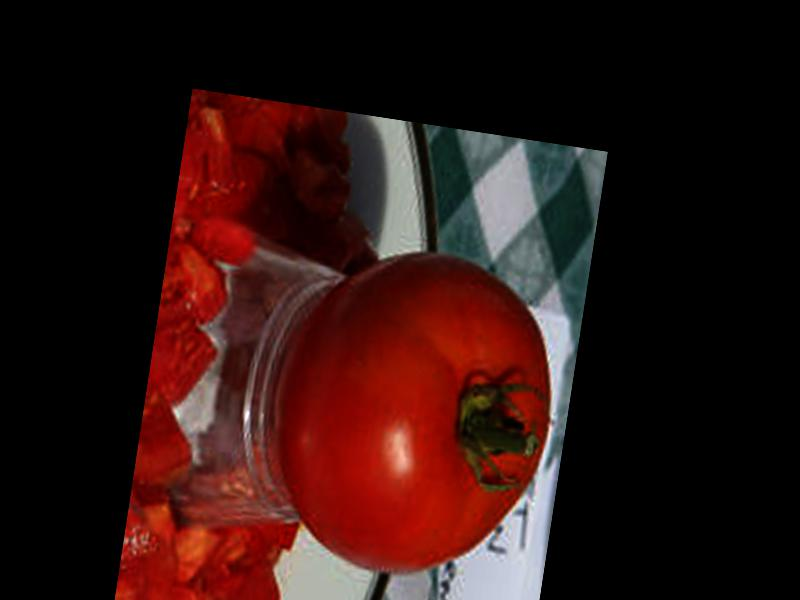Tomato: (259, 232, 574, 596)
